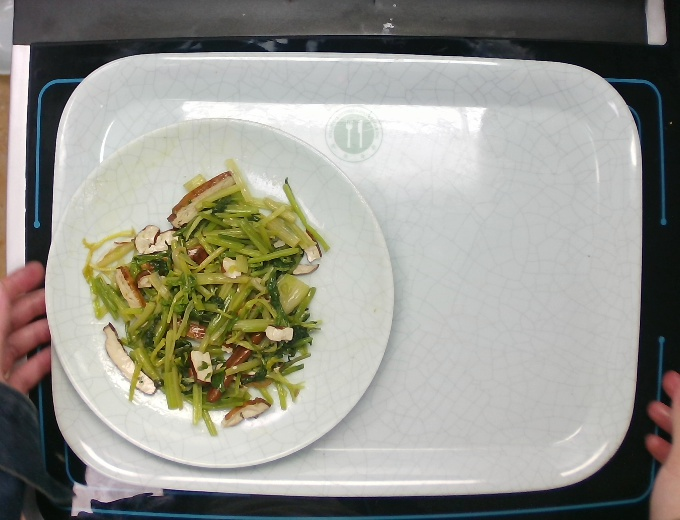JYsf-Da_Yuan_Pan: (40, 113, 401, 472)
